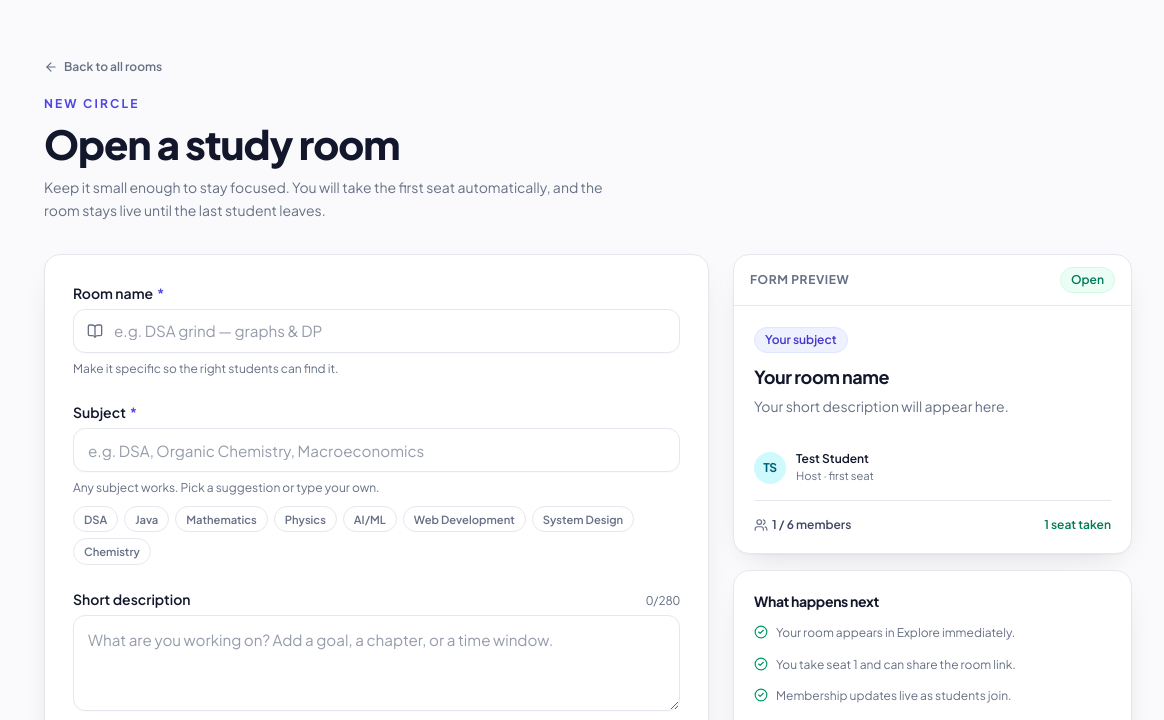
Test: CreateRoomPage › creates a room and opens it
Type "Graphs and DP" into the field labelled "Room name *" at [376, 330], box top-left (73, 308), bottom-right (680, 352)
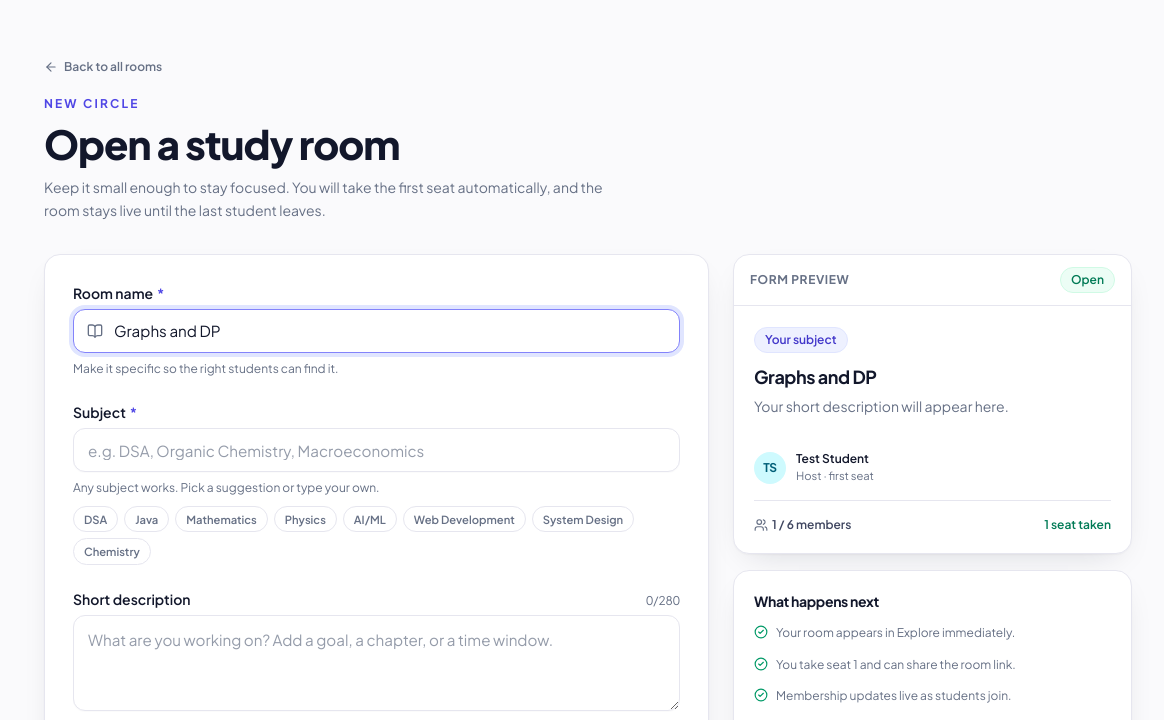
Type "DSA" into the field labelled "Subject *" at [376, 450], box top-left (73, 428), bottom-right (680, 472)
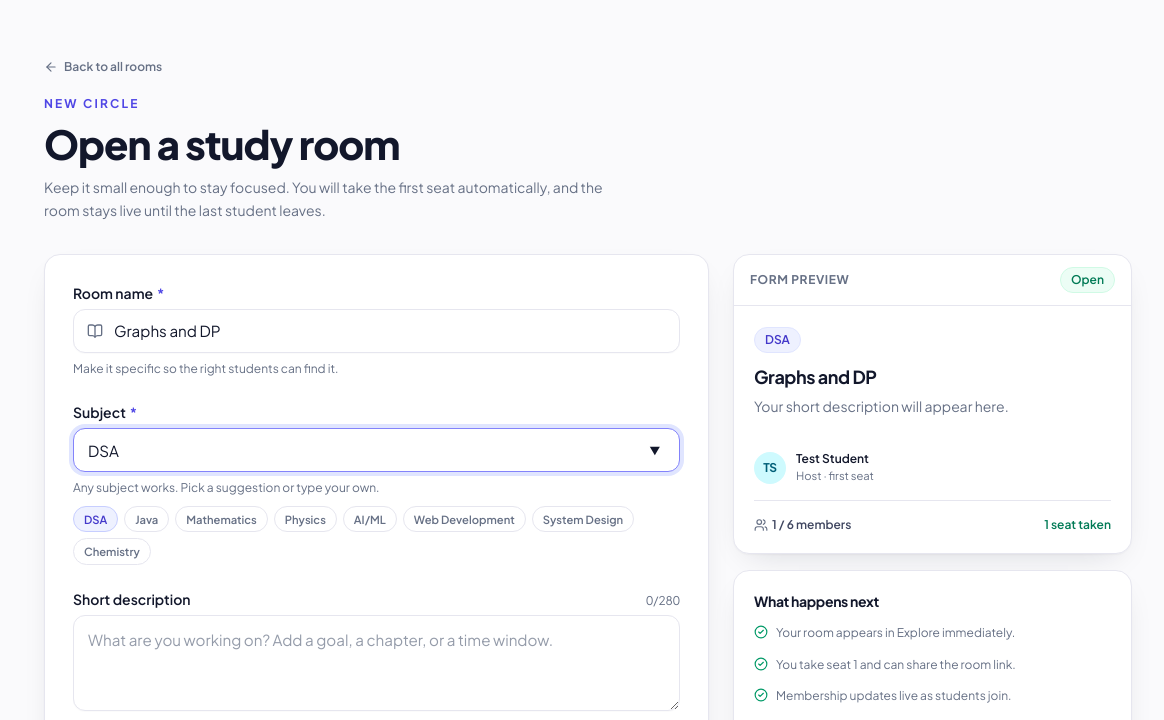
Type "Working through graph traversal problems." into the text box labelled "Short description" at [376, 663], box top-left (73, 615), bottom-right (680, 711)
(page scrolled)
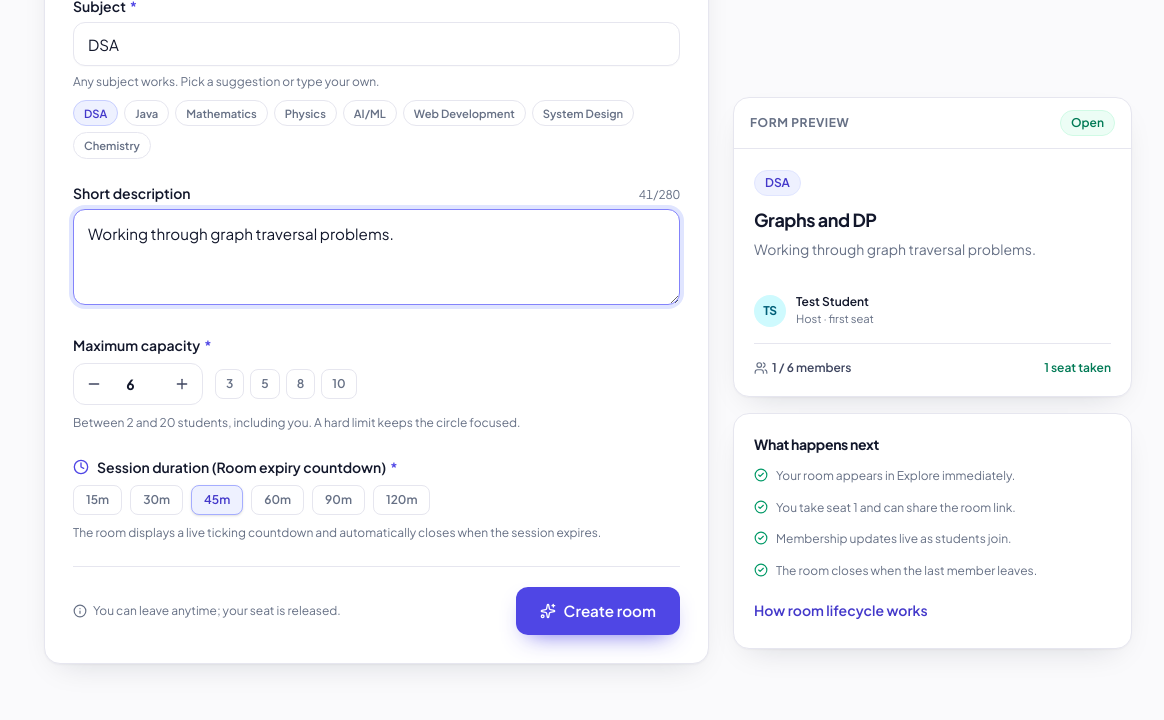
Click the button "Create room" at [598, 611], box top-left (516, 587), bottom-right (680, 635)
(page scrolled)
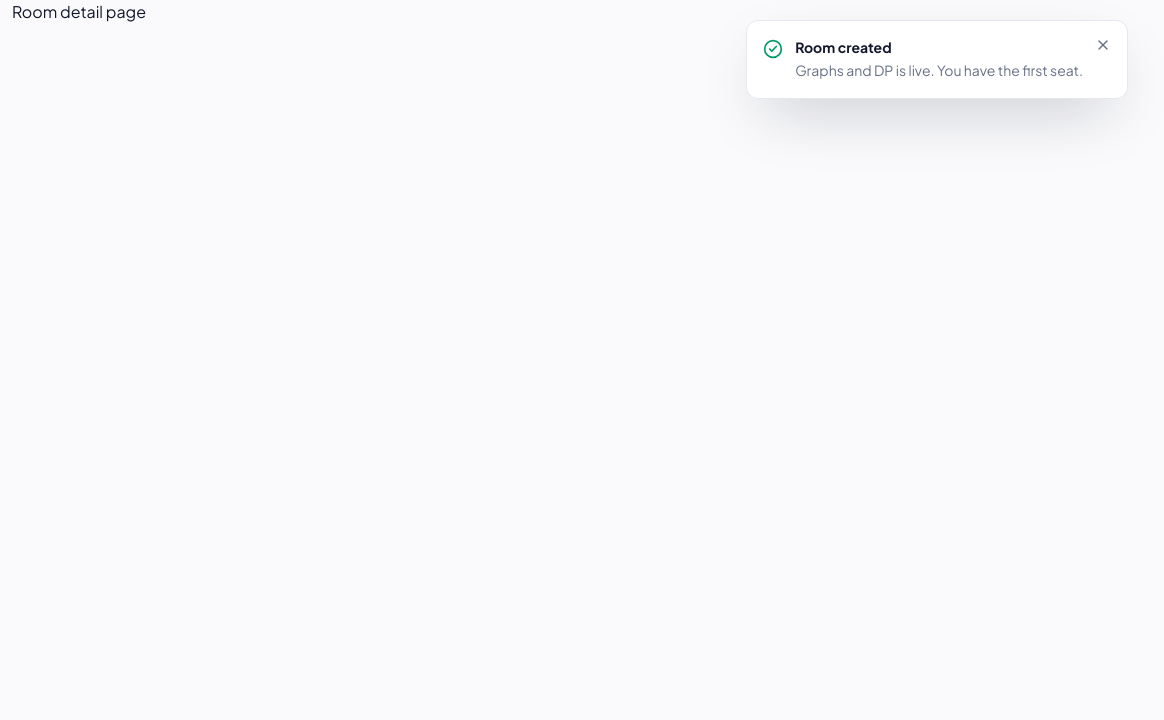
Expected: the text "Room detail page" is shown, top-left (12, 1), bottom-right (146, 22)
